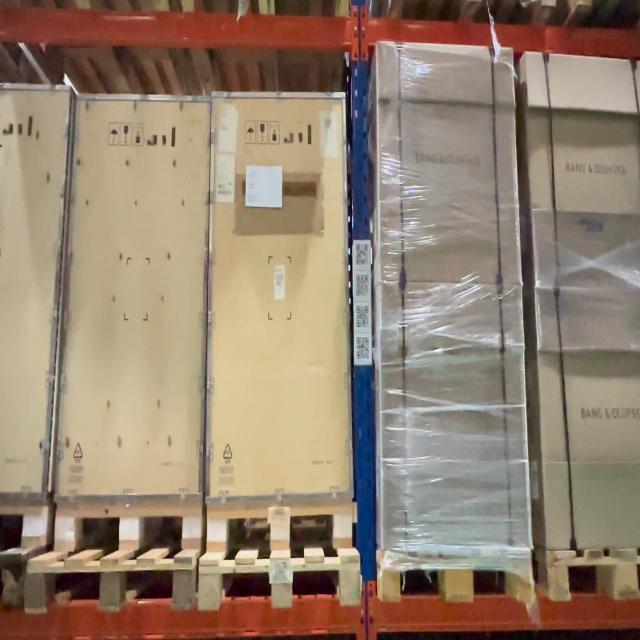box: (54, 98, 211, 497), (208, 94, 348, 503), (382, 287, 525, 556), (380, 46, 517, 282)
